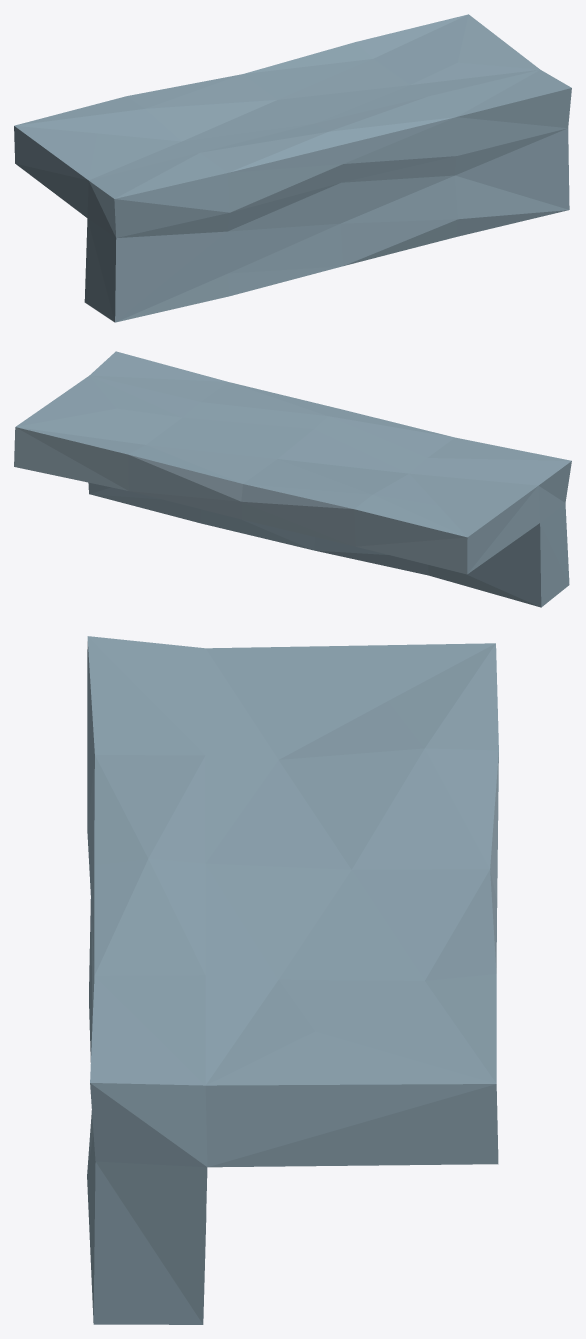
The model's file is kitchen_shelf.fbx.
3 renders of one model, top to bottom at view 1: azimuth 30°, elevation 25°; view 2: azimuth 150°, elevation 25°; view 3: azimuth 270°, elevation 25°, orthographic. The views are drawn at different scales.
Parts seen in each view (by area): view 1: kitchen_shelf; view 2: kitchen_shelf; view 3: kitchen_shelf.
Boxes of the visible parts, bbox=[...] form: kitchen_shelf: bbox=[14, 14, 571, 322]; kitchen_shelf: bbox=[14, 351, 571, 607]; kitchen_shelf: bbox=[87, 636, 498, 1324].
Size of the model in its own units: 63.16 by 16.5 by 24.63.
